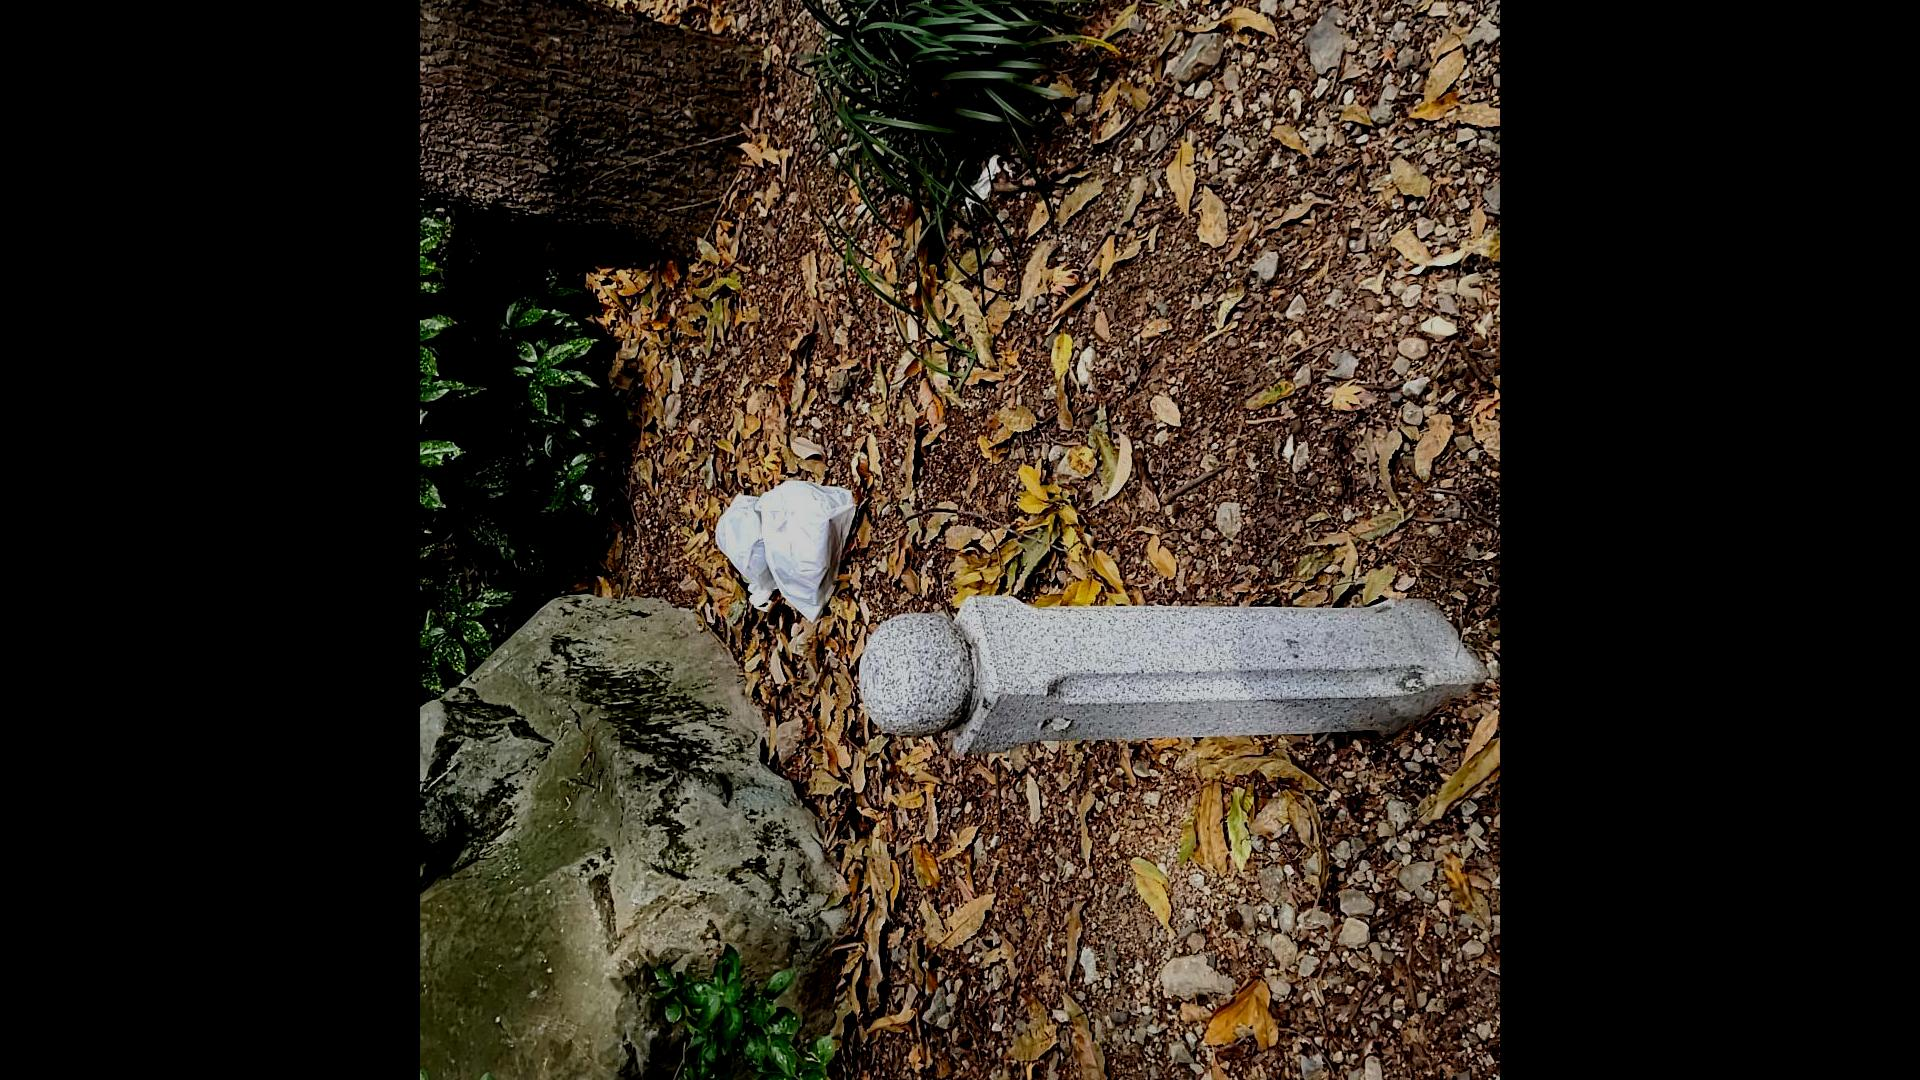white_bag: (752, 473, 860, 626), (709, 487, 781, 609)
